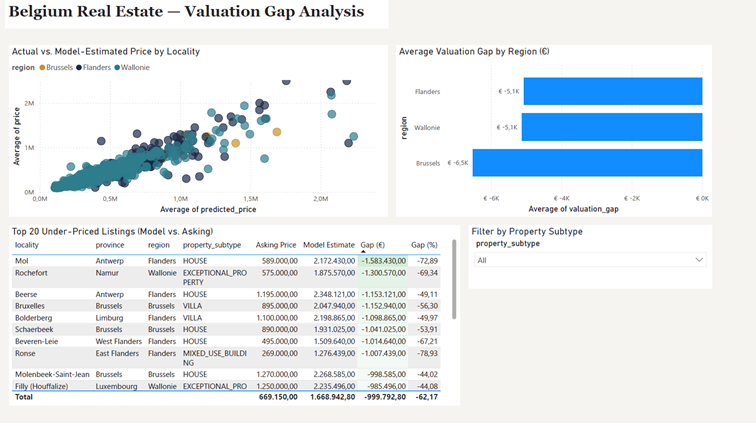

What the dashboard file says about the page in this screenshot:
{"tool":"powerbi","page":{"name":"Valuation Gap — Opportunity Finder","canvas":[1280,720],"ordinal":2},"visuals":[{"type":"textbox","box":[10,0,680,50],"z":0},{"type":"scatterChart","title":"Actual vs. Model-Estimated Price by Locality","fields":{"X":["Avg(belgium_re_powerbi_export.predicted_price)"],"Y":["Avg(belgium_re_powerbi_export.price)"],"Category":["belgium_re_powerbi_export.locality"],"Series":["belgium_re_powerbi_export.region"]},"box":[16,80,672,304],"z":1000},{"type":"clusteredBarChart","title":"Average Valuation Gap by Region (€)","fields":{"Category":["belgium_re_powerbi_export.region"],"Y":["Avg(belgium_re_powerbi_export.valuation_gap)"]},"box":[704,80,560,304],"z":2000},{"type":"tableEx","title":"Top 20 Under-Priced Listings (Model vs. Asking)","fields":{"Values":["belgium_re_powerbi_export.locality","belgium_re_powerbi_export.province","belgium_re_powerbi_export.region","belgium_re_powerbi_export.property_subtype","Avg(belgium_re_powerbi_export.price)","Avg(belgium_re_powerbi_export.predicted_price)","Avg(belgium_re_powerbi_export.valuation_gap)","Avg(belgium_re_powerbi_export.valuation_gap_pct)"]},"box":[16,400,800,320],"z":3000},{"type":"slicer","title":"Filter by Property Subtype","fields":{"Values":["belgium_re_powerbi_export.property_subtype"]},"box":[832,400,432,112],"z":5000}]}

Visuals, with their boxes in screenshot pixels (x1, y1, x2, y2), scaled from the page's 1280x720 canvas onto the 756x423 screenshot:
textbox: bbox=[6, 0, 408, 29]
"Actual vs. Model-Estimated Price by Locality" scatterChart: bbox=[9, 47, 406, 226]
"Average Valuation Gap by Region (€)" clusteredBarChart: bbox=[416, 47, 747, 226]
"Top 20 Under-Priced Listings (Model vs. Asking)" tableEx: bbox=[9, 235, 482, 422]
"Filter by Property Subtype" slicer: bbox=[491, 235, 747, 301]
